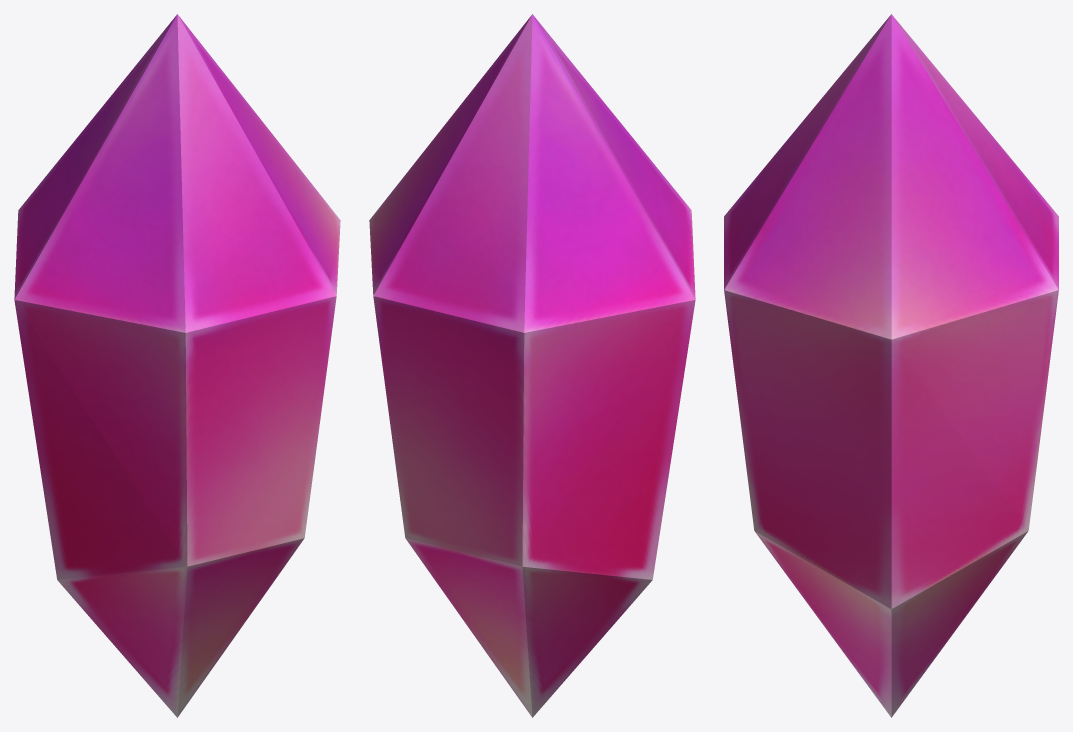
Rendered from crystal_S.FBX.
3 views of the same model, side by side, from view 1: azimuth 30°, elevation 25°; view 2: azimuth 150°, elevation 25°; view 3: azimuth 270°, elevation 25° (orthographic).
Parts seen in each view (by area): view 1: crystal_S; view 2: crystal_S; view 3: crystal_S.
Boxes of the visible parts, x1=… form: crystal_S: x1=14, y1=14, x2=340, y2=717; crystal_S: x1=369, y1=14, x2=695, y2=717; crystal_S: x1=724, y1=14, x2=1058, y2=717.
Bounding box in the file's own units: 24.54 × 50.61 × 21.82.
